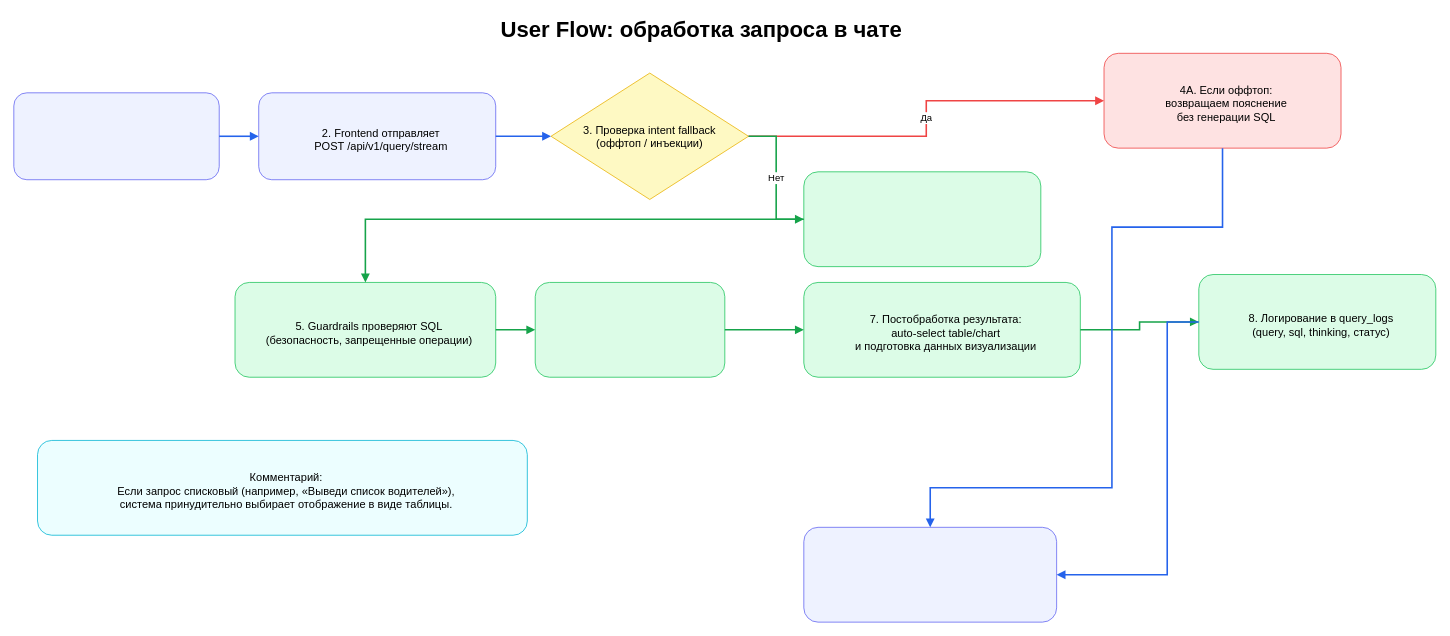
Some shapes in this 1450 by 636 pixel diagram are drawn without their labels. Each missing label, with the centre of its shape:
"1. Пользователь вводит запрос в чат интерфейса" belongs at pixel 116 136.
"4B. Если запрос валиден: OpenRouter генерирует SQL + reasoning (stream)" belongs at pixel 922 219.
"6. Выполнение SQL в базе данных" belongs at pixel 629 329.
"9. Frontend показывает ответ: интерпретация, reasoning, SQL, таблица или график" belongs at pixel 930 574.
